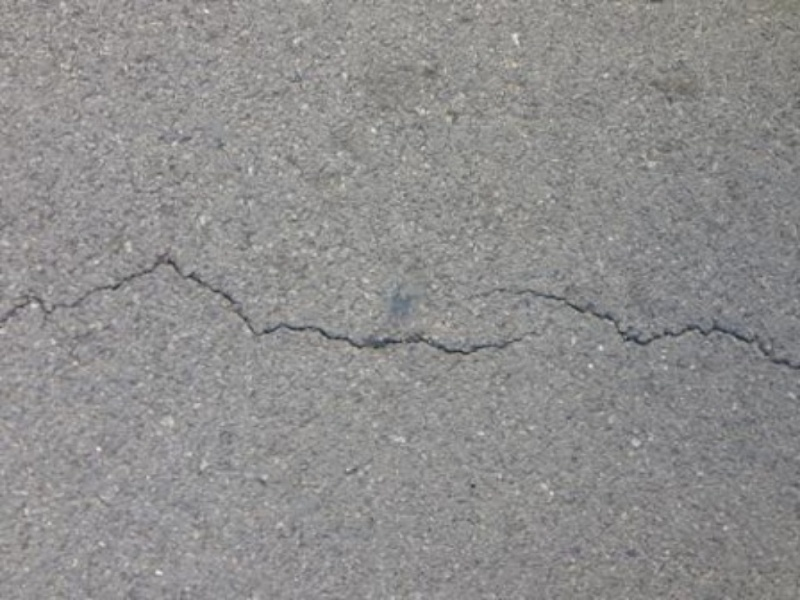crack: (10, 247, 536, 394), (460, 267, 794, 386)
